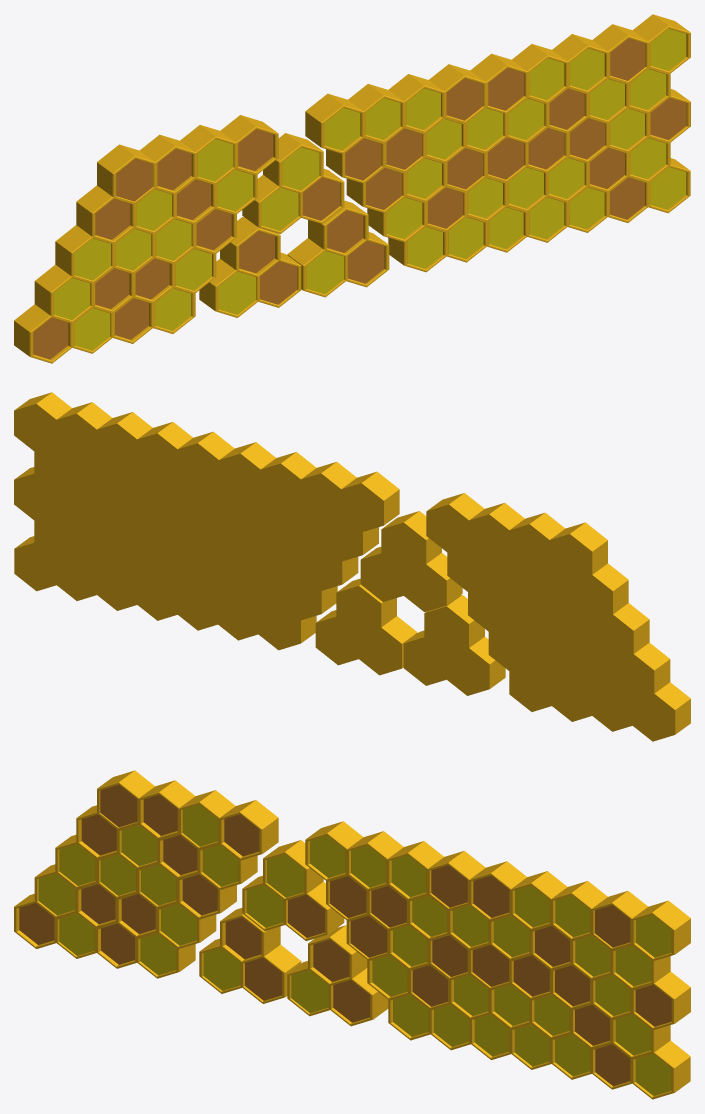
File: honeyLevel7.fbx
3 views of the same model, one above another, from view 1: azimuth 30°, elevation 25°; view 2: azimuth 150°, elevation 25°; view 3: azimuth 330°, elevation 25° (orthographic).
Parts seen in each view (by area): view 1: Cube.007, ArrayCombs.001, ArrayCombs.002, Cube.001, Cube.005, Cube.002; view 2: Cube.007, ArrayCombs.001, ArrayCombs.002, Cube.001, Cube.005, Cube.002; view 3: Cube.007, ArrayCombs.002, ArrayCombs.001, Cube.001, Cube.002, Cube.005.
Part boxes in pixels (x1,y1,x2,y2): Cube.007: (14, 115, 278, 363); ArrayCombs.001: (305, 64, 569, 272); ArrayCombs.002: (470, 14, 690, 232); Cube.001: (242, 133, 344, 233); Cube.005: (199, 217, 301, 317); Cube.002: (287, 200, 389, 297); Cube.007: (426, 493, 690, 741); ArrayCombs.001: (135, 442, 399, 650); ArrayCombs.002: (14, 392, 234, 610); Cube.001: (360, 511, 462, 611); Cube.005: (403, 595, 505, 695); Cube.002: (315, 578, 417, 675); Cube.007: (14, 770, 278, 978); ArrayCombs.002: (470, 861, 690, 1099); ArrayCombs.001: (305, 821, 554, 1069); Cube.001: (242, 840, 344, 940); Cube.002: (287, 925, 388, 1026); Cube.005: (199, 908, 301, 1003).
Bounding box in the file's own units: 3947 × 1072 × 167.
